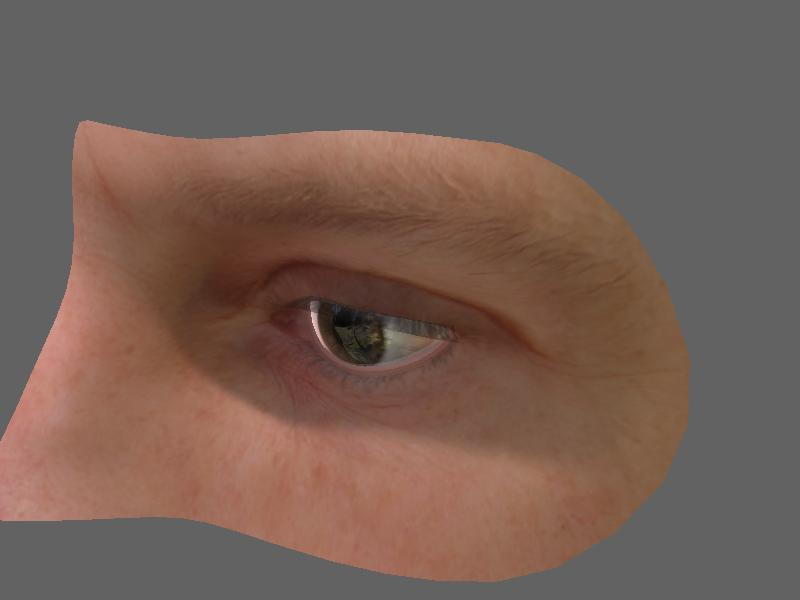iris: (306, 295, 391, 366)
